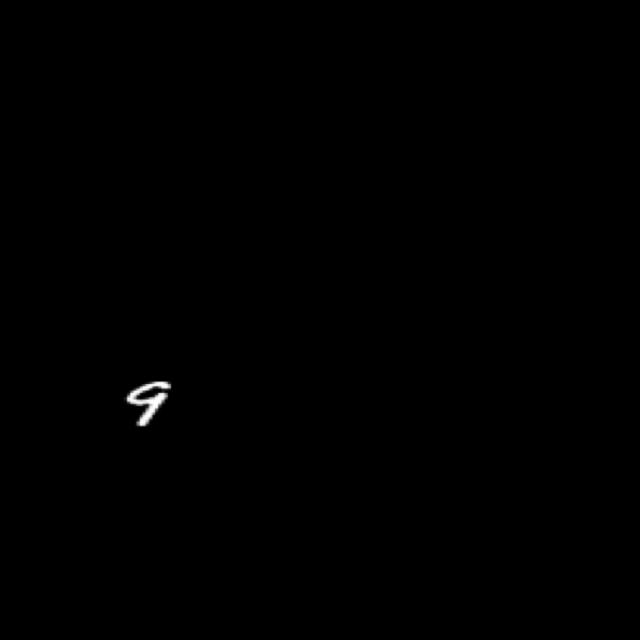nine -9-: (116, 376, 178, 430)
